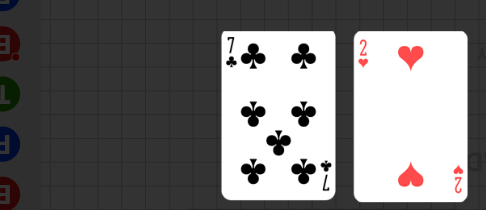2H: (358, 38, 371, 69)
7C: (223, 35, 238, 69)
